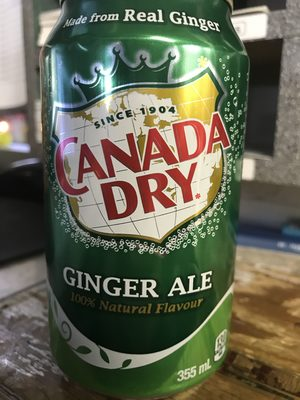Lata: (37, 1, 256, 397)
